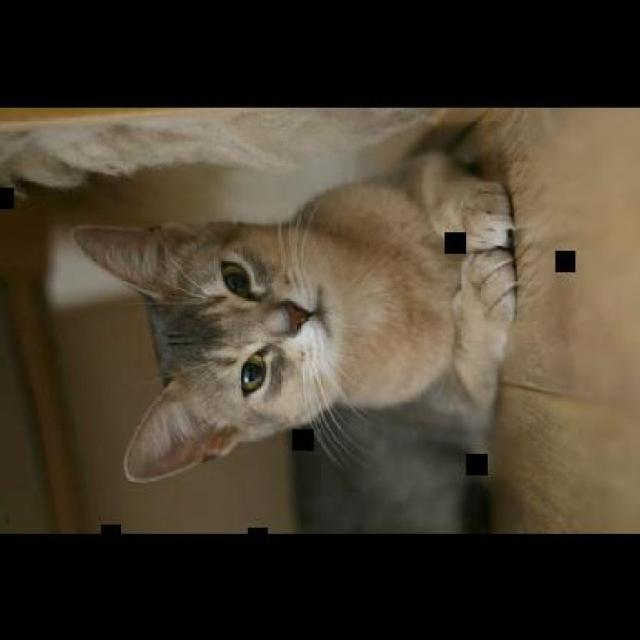unauthorized: (71, 137, 523, 485)
